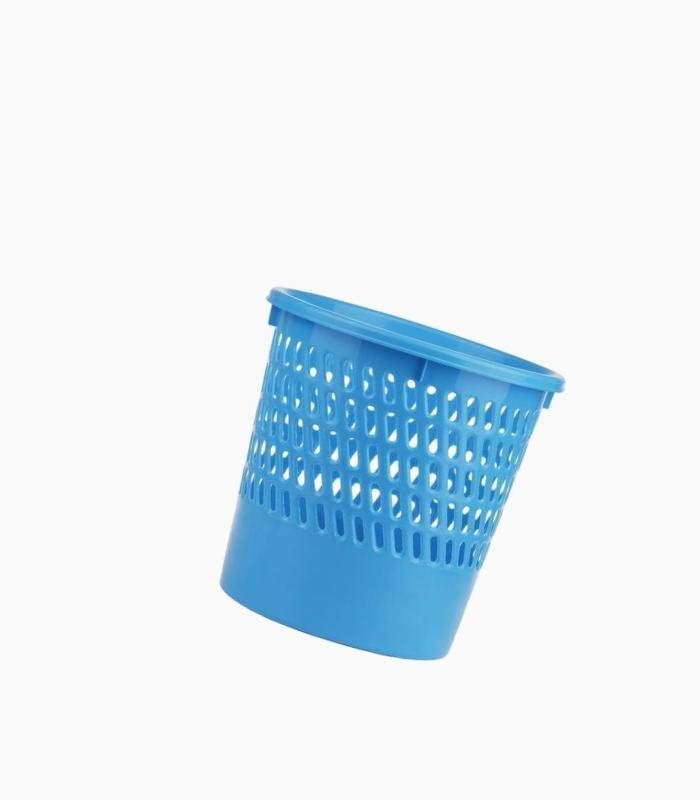Bote de Basura: (236, 277, 557, 662)
